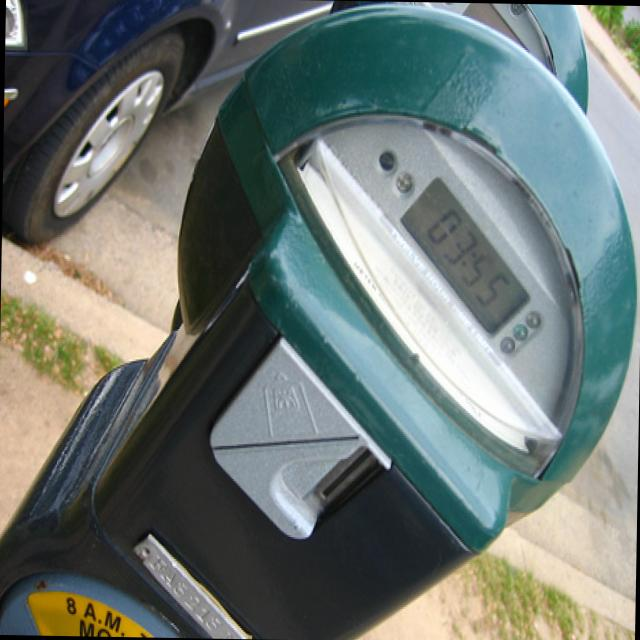Vehicle: (1, 0, 393, 247)
